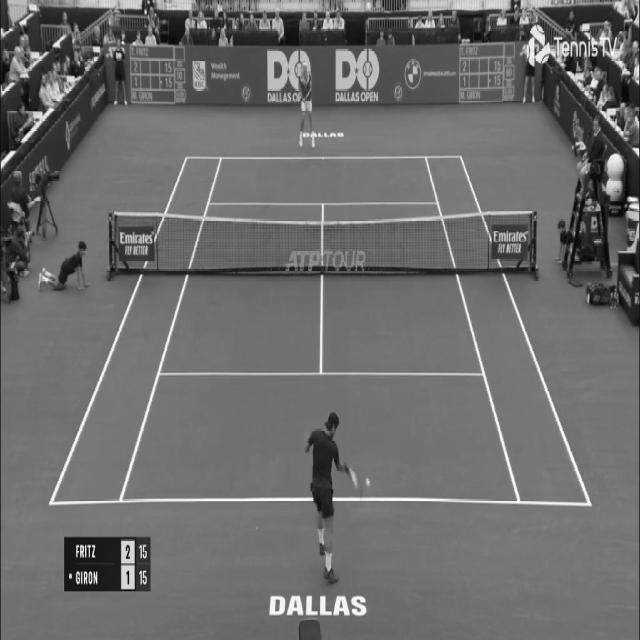tennis-court: (48, 155, 592, 506)
